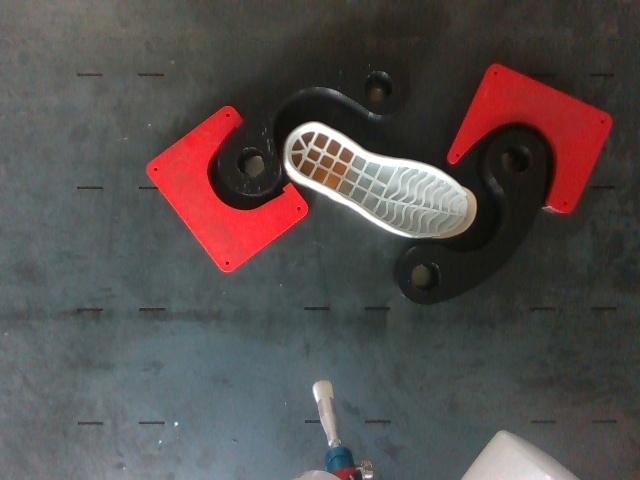shoes: (286, 123, 476, 237)
